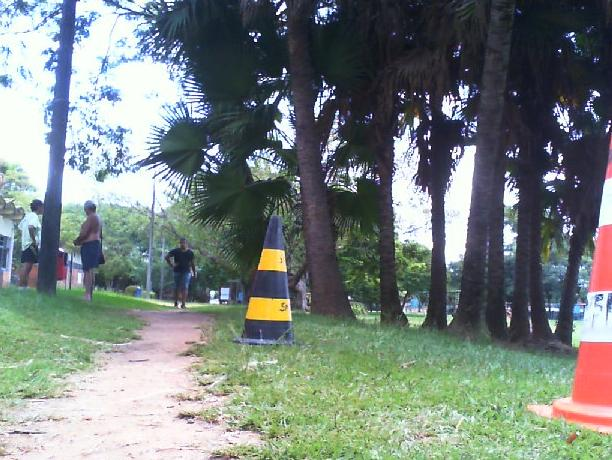0 cone: (527, 118, 612, 437), (232, 215, 309, 346)
